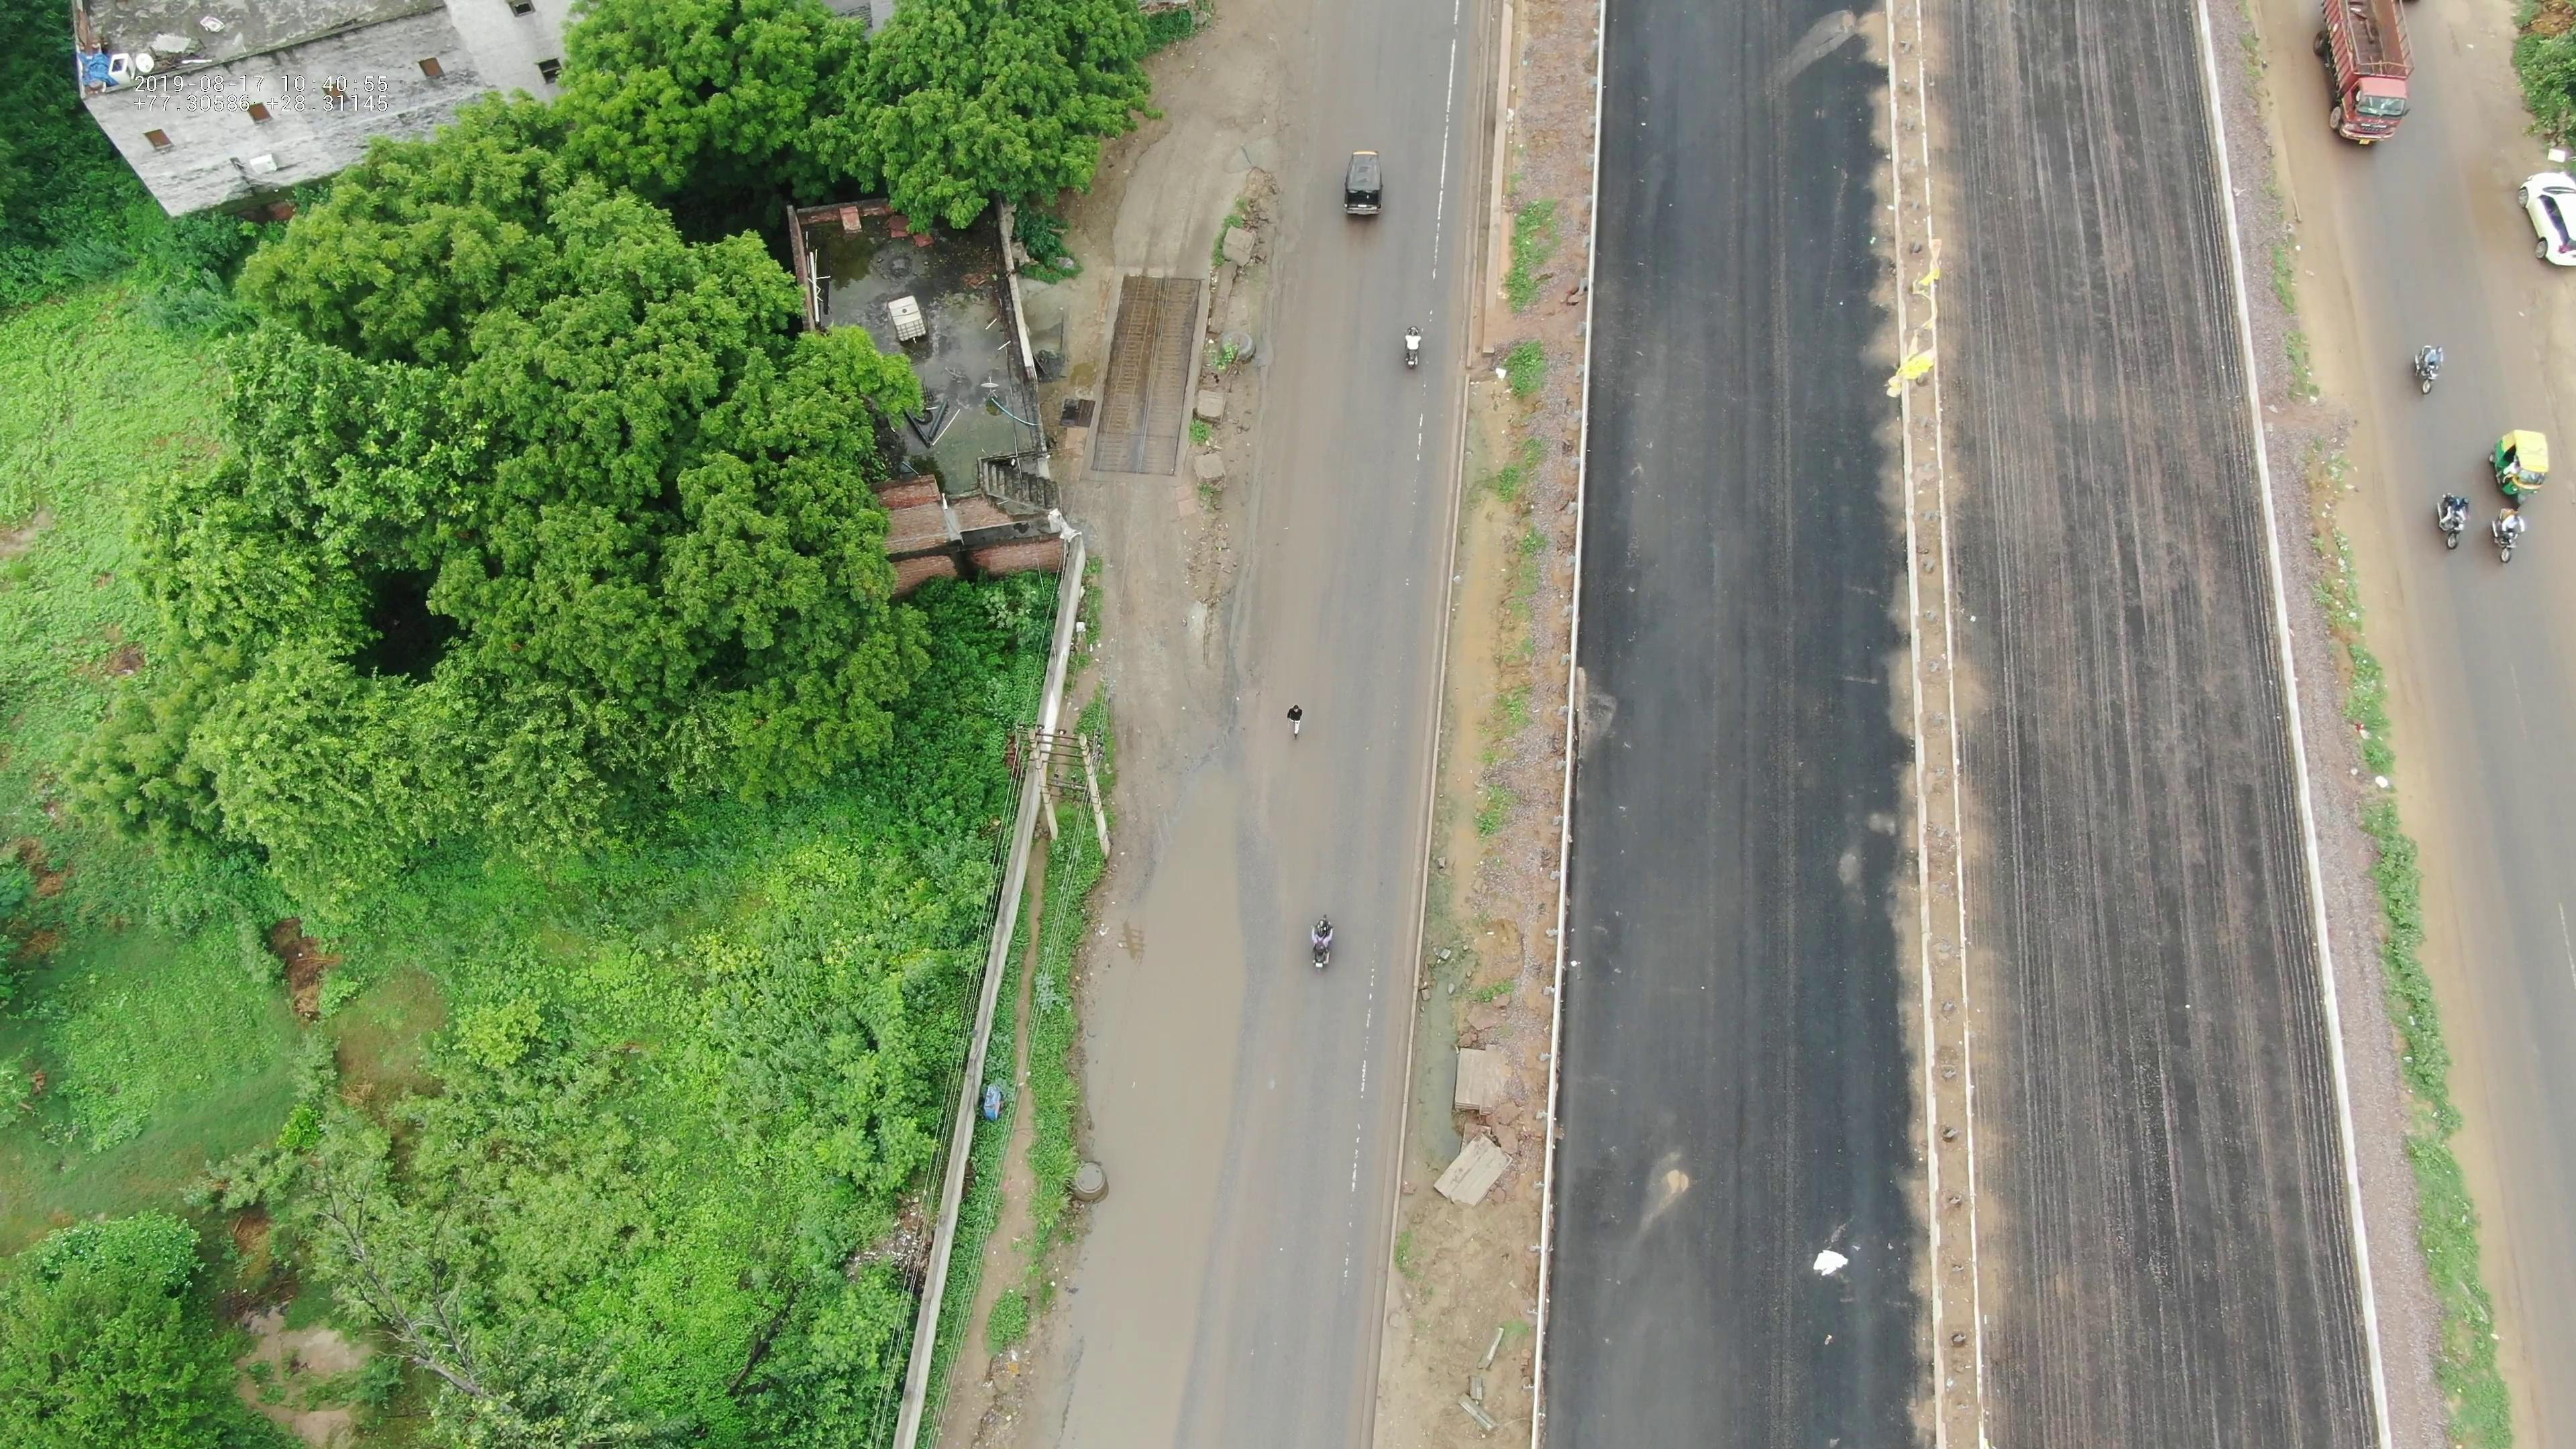Waterlogging: (1097, 893, 1242, 1332)
